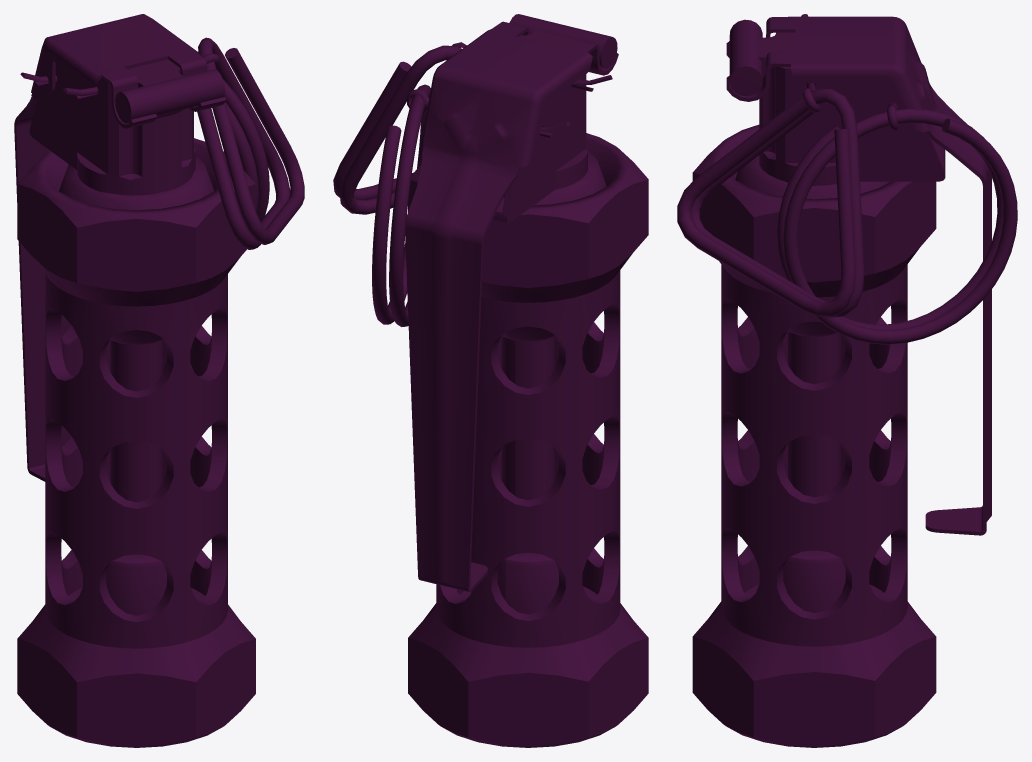
File: flashbang.glb
3 views of the same model, side by side, from view 1: azimuth 30°, elevation 25°; view 2: azimuth 150°, elevation 25°; view 3: azimuth 270°, elevation 25° (orthographic). The views are drawn at different scales.
Parts seen in each view (by area): view 1: Body, Head, Lever, Pin_2, Core, PIn_1; view 2: Body, Lever, Core, Head, PIn_1, Pin_2; view 3: Body, Lever, Head, Pin_2, PIn_1, Core.
Part boxes in pixels (bbox=[...]): Body: bbox=[17, 138, 255, 747]; Head: bbox=[29, 59, 224, 195]; Lever: bbox=[14, 14, 226, 481]; Pin_2: bbox=[197, 37, 304, 249]; Core: bbox=[106, 330, 166, 615]; PIn_1: bbox=[222, 78, 269, 221]; Body: bbox=[408, 133, 648, 747]; Lever: bbox=[405, 21, 618, 592]; Core: bbox=[497, 326, 558, 614]; Head: bbox=[492, 14, 617, 223]; PIn_1: bbox=[372, 84, 430, 326]; Pin_2: bbox=[333, 45, 461, 214]; Body: bbox=[692, 124, 936, 747]; Lever: bbox=[726, 16, 991, 535]; Head: bbox=[729, 19, 945, 185]; Pin_2: bbox=[677, 89, 864, 317]; PIn_1: bbox=[777, 108, 1017, 344]; Core: bbox=[783, 321, 845, 612].
Size of the model in its own units: 0.057 by 0.1325 by 0.0615.
